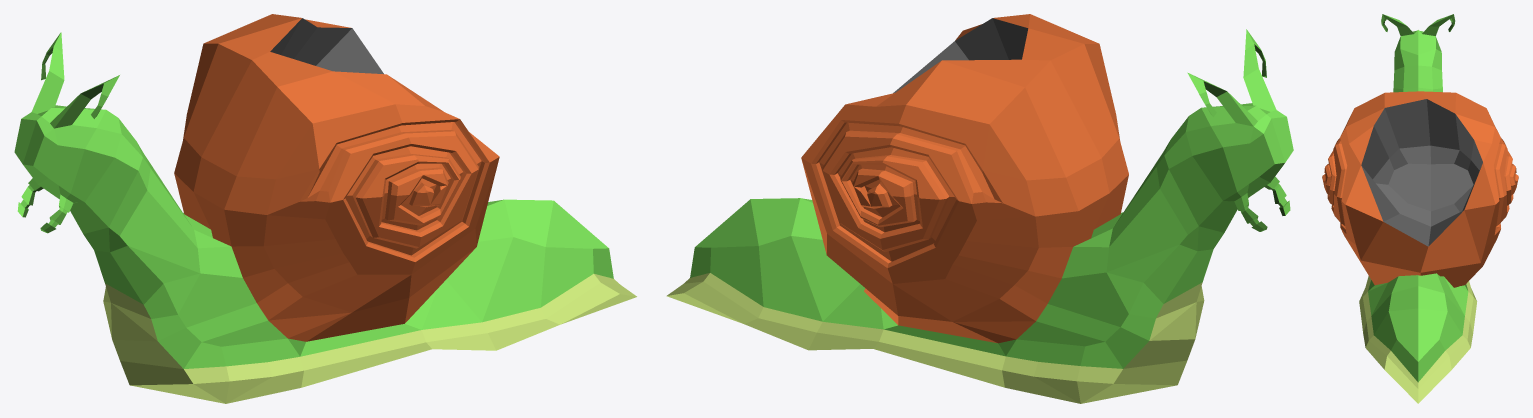
Rendered from ZombieSnailUnit.fbx.
3 views of the same model, side by side, from view 1: azimuth 30°, elevation 25°; view 2: azimuth 150°, elevation 25°; view 3: azimuth 270°, elevation 25° (orthographic). The views are drawn at different scales.
Visible parts, largest first — view 1: Cube.003; view 2: Cube.003; view 3: Cube.003.
Boxes of the visible parts, bbox=[...] form: Cube.003: bbox=[14, 14, 636, 403]; Cube.003: bbox=[666, 14, 1293, 403]; Cube.003: bbox=[1322, 14, 1518, 403].
Size of the model in its own units: 111 by 65.18 by 50.87.
